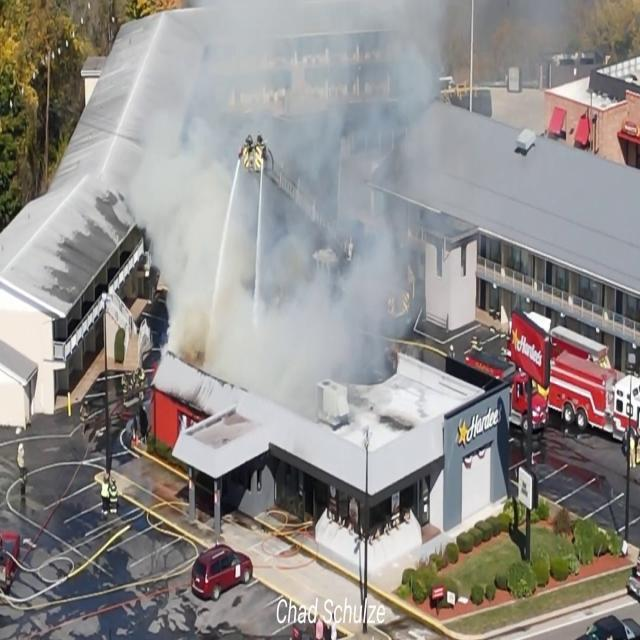Smoke: (130, 1, 444, 391)
